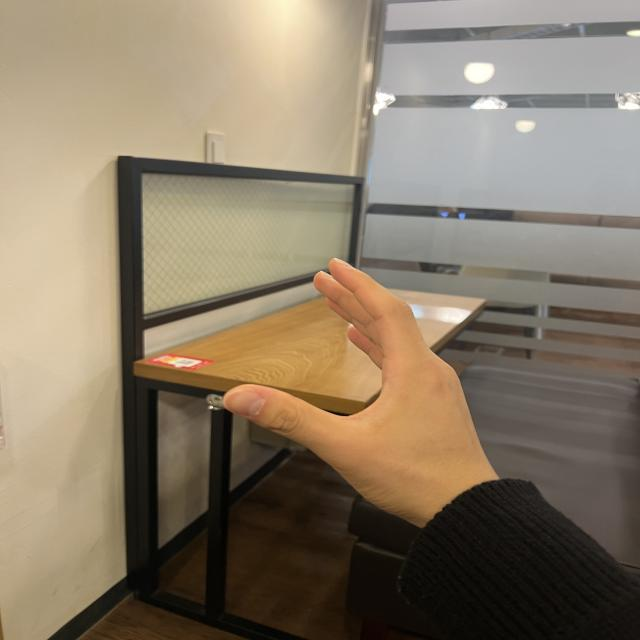Nail: (230, 389, 265, 417)
